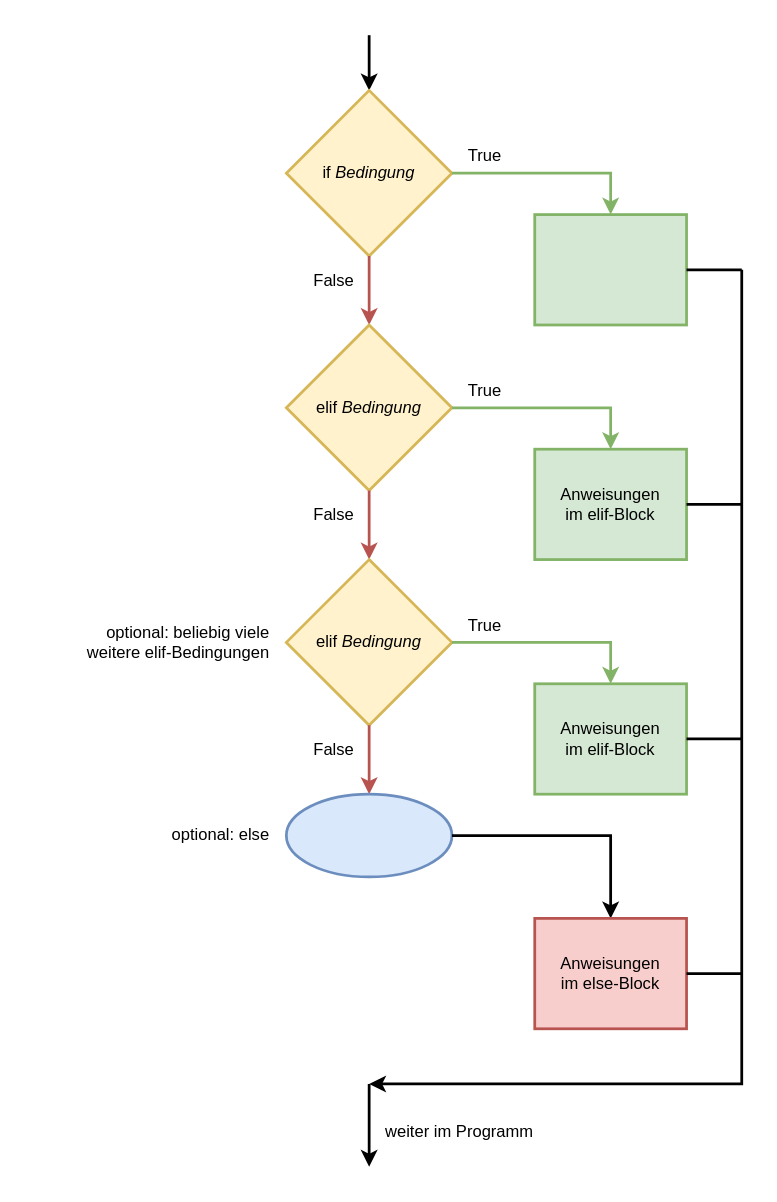
Some shapes in this 777 by 1202 pixel diagram are drawn without their labels. Each missing label, with the box of its shape:
Anweisungen im if-Block: (533, 213, 687, 326)
else: (284, 792, 453, 878)
